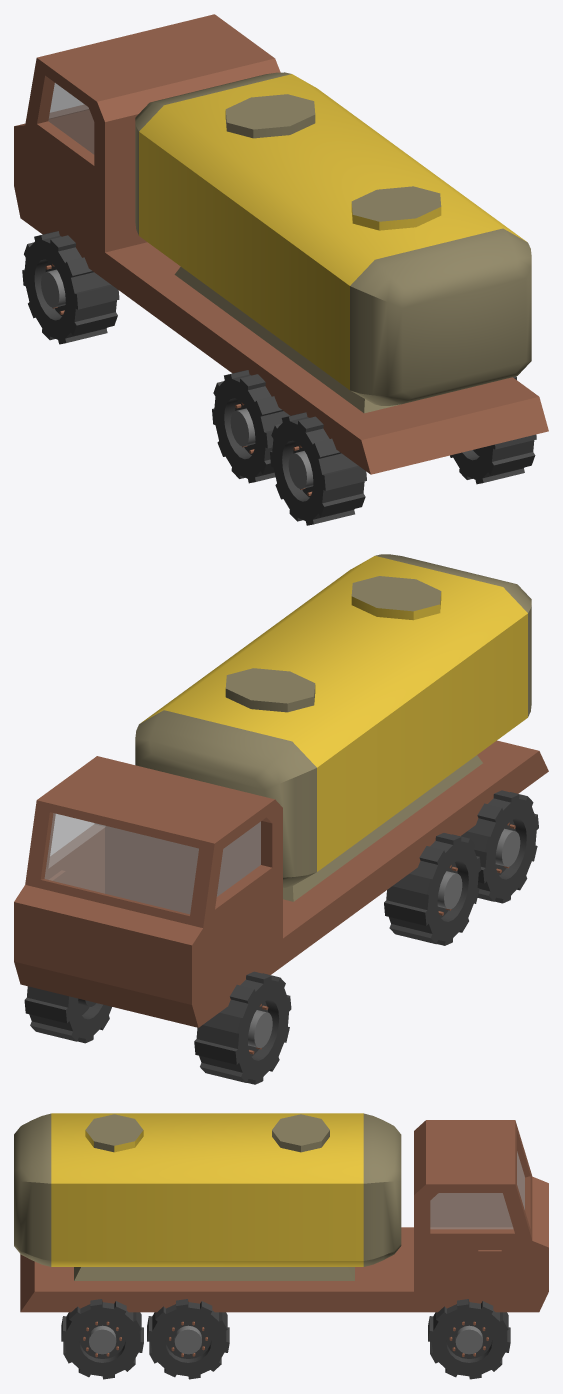
The model's file is Caminhao.fbx.
3 renders of one model, top to bottom at view 1: azimuth 30°, elevation 25°; view 2: azimuth 150°, elevation 25°; view 3: azimuth 270°, elevation 25°, orthographic. The views are drawn at different scales.
Visible parts, largest first — view 1: Caminhao, Roda 3L, Roda 1L, Roda 2L, Roda 3R; view 2: Caminhao, Roda 1L, Roda 2L, Roda 3L, Roda 1R; view 3: Caminhao, Roda 3R, Roda 1R, Roda 2R.
Boxes of the visible parts, x1,y1,x2,y2 form: Caminhao: (14, 14, 548, 474); Roda 3L: (270, 412, 366, 525); Roda 1L: (22, 231, 119, 344); Roda 2L: (212, 370, 289, 483); Roda 3R: (450, 376, 536, 484); Caminhao: (14, 554, 548, 1027); Roda 1L: (194, 971, 291, 1084); Roda 2L: (384, 833, 480, 945); Roda 3L: (461, 790, 538, 903); Roda 1R: (24, 986, 111, 1043); Caminhao: (14, 1113, 548, 1312); Roda 3R: (61, 1299, 143, 1379); Roda 1R: (428, 1299, 510, 1379); Roda 2R: (147, 1299, 229, 1379).
Size of the model in its own units: 288 by 373 by 855.
